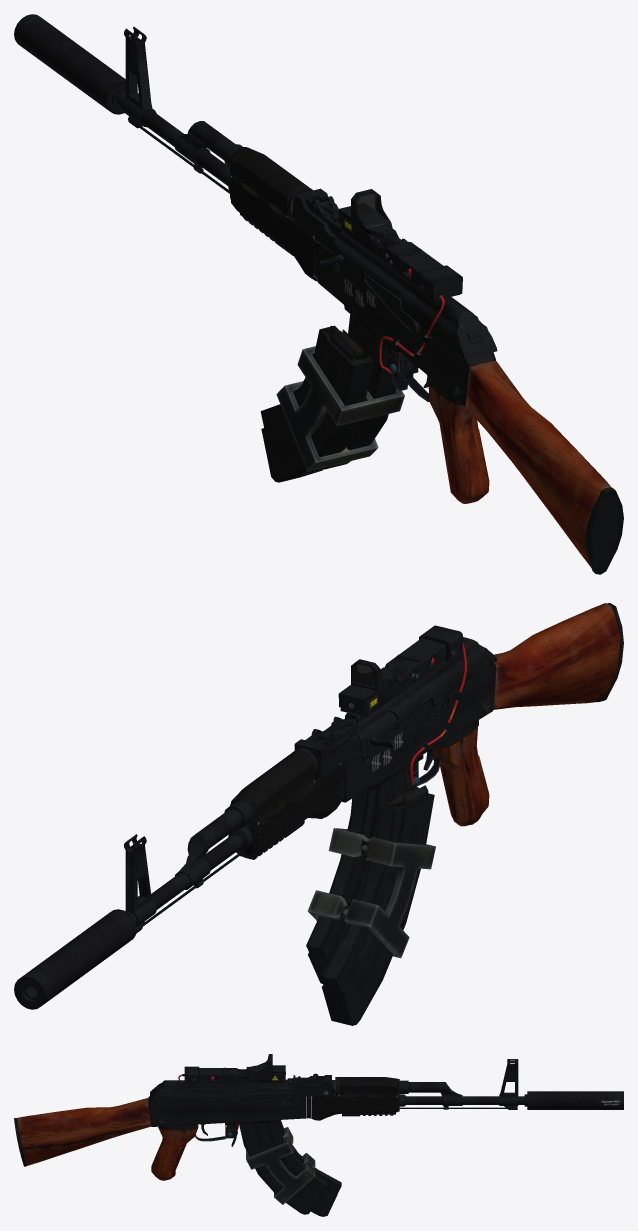
Rendered from rifle_762.glb.
3 renders of one model, top to bottom at view 1: azimuth 30°, elevation 25°; view 2: azimuth 150°, elevation 25°; view 3: azimuth 270°, elevation 25°, orthographic. The views are drawn at different scales.
Visible parts, largest first — view 1: item; view 2: item; view 3: item.
Boxes of the visible parts, x1=… form: item: x1=14, y1=14, x2=623, y2=574; item: x1=14, y1=603, x2=623, y2=1025; item: x1=14, y1=1054, x2=623, y2=1216.
Size of the model in its own units: 0.0589 by 0.2642 by 0.88.
1 material, 1 textured.
